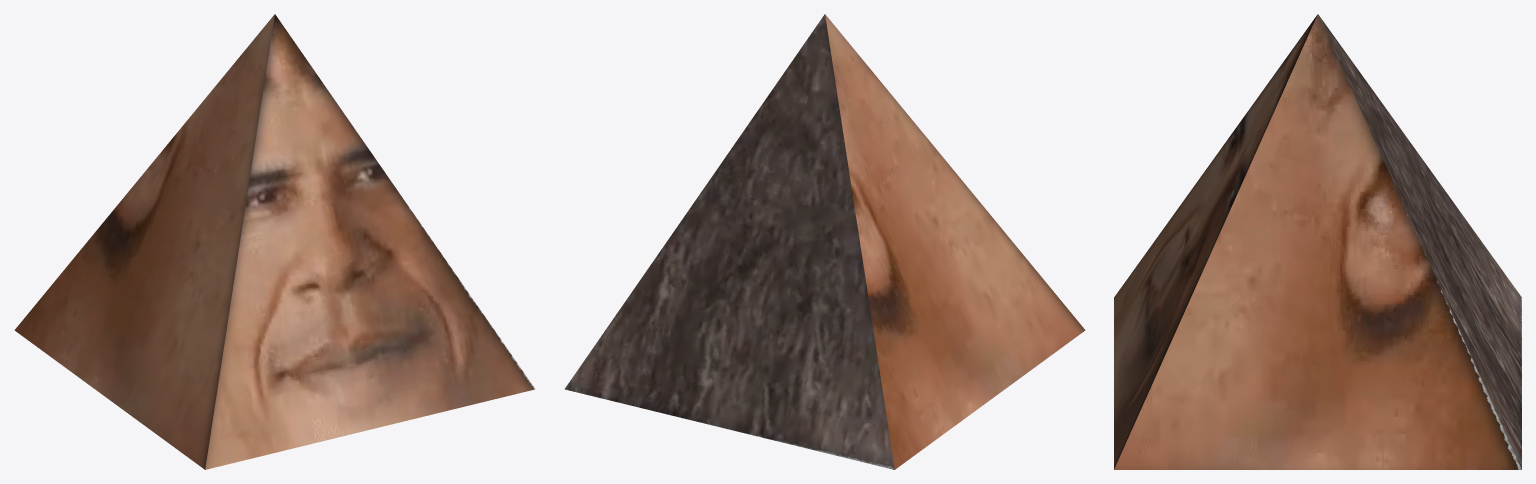
The model's file is The_Obama_Prism.glb.
The picture shows the model from 3 angles, left to right: view 1: azimuth 30°, elevation 25°; view 2: azimuth 150°, elevation 25°; view 3: azimuth 270°, elevation 25°; orthographic projection. The views are drawn at different scales.
Parts seen in each view (by area): view 1: Mesh_0; view 2: Mesh_0; view 3: Mesh_0.
Part boxes in pixels (left/top/right/bottom): Mesh_0: left=14, top=14, right=534, bottom=469; Mesh_0: left=565, top=14, right=1085, bottom=469; Mesh_0: left=1114, top=14, right=1521, bottom=469.
Size of the model in its own units: 8.38 by 8.38 by 8.38.
6 materials, 5 textured.
